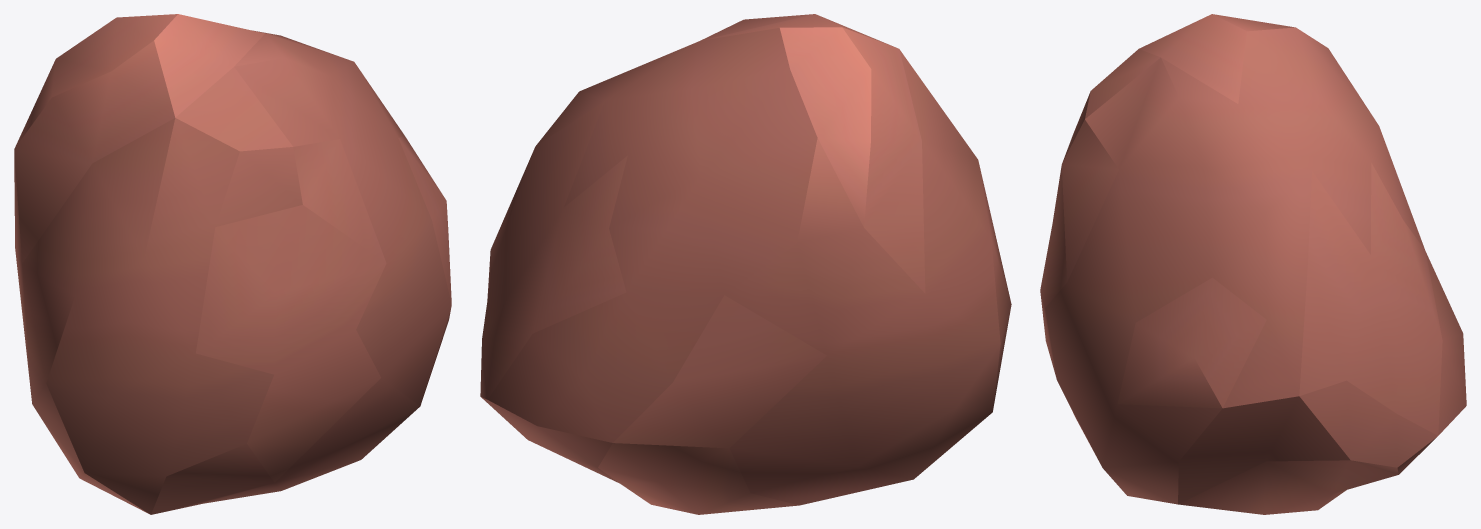
Rendered from rock_3_h_color1.28de8924.glb.
The picture shows the model from 3 angles, left to right: view 1: azimuth 30°, elevation 25°; view 2: azimuth 150°, elevation 25°; view 3: azimuth 270°, elevation 25°; orthographic projection. The views are drawn at different scales.
Parts seen in each view (by area): view 1: Rock_3_H_Color1; view 2: Rock_3_H_Color1; view 3: Rock_3_H_Color1.
Boxes of the visible parts, x1=… form: Rock_3_H_Color1: x1=14, y1=14, x2=451, y2=514; Rock_3_H_Color1: x1=480, y1=14, x2=1011, y2=514; Rock_3_H_Color1: x1=1040, y1=14, x2=1466, y2=514.
Bounding box in the file's own units: 1.95 × 2.06 × 1.76.
Materials: 1 (1 with a texture image).
